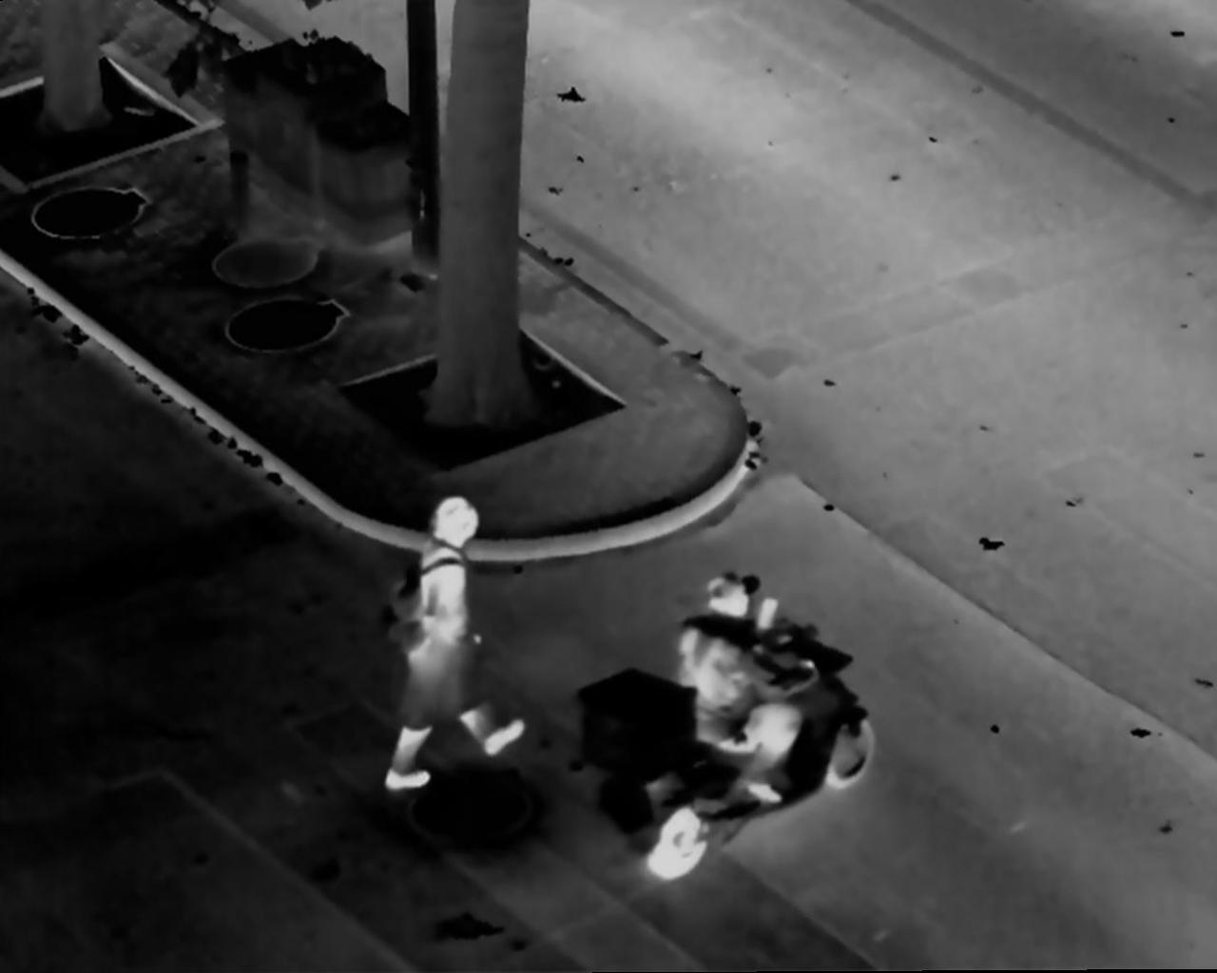person: (381, 495, 529, 797), (668, 568, 814, 814)
